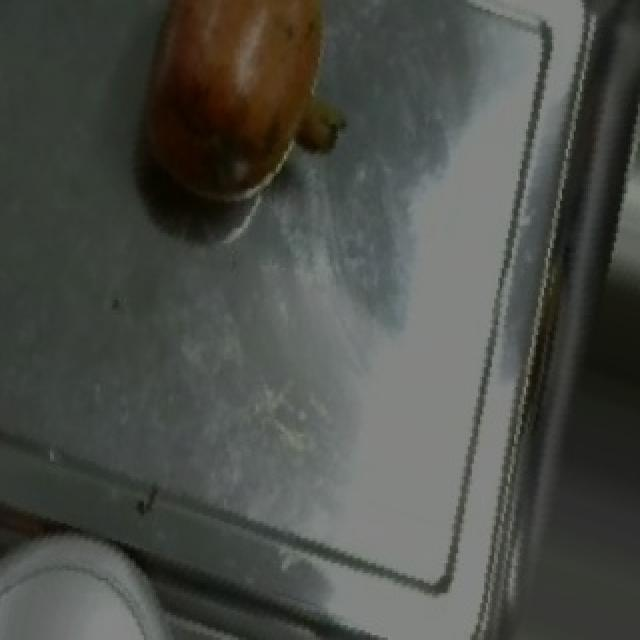fruit: (104, 0, 364, 231)
